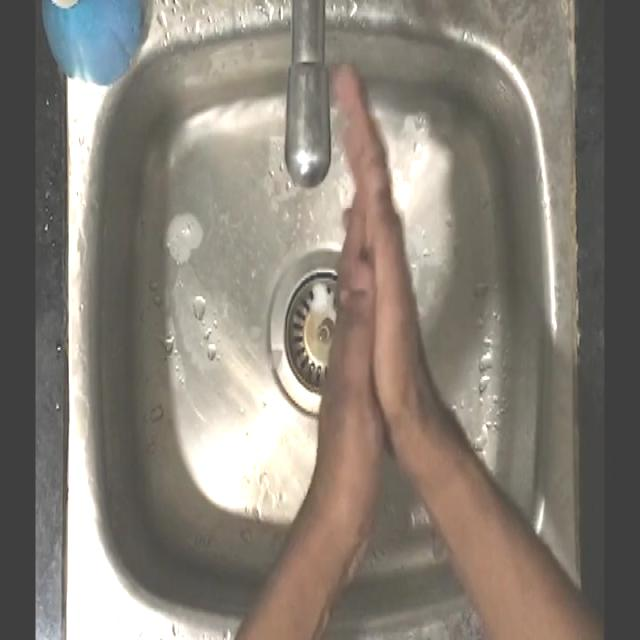step_1: (306, 91, 431, 446)
